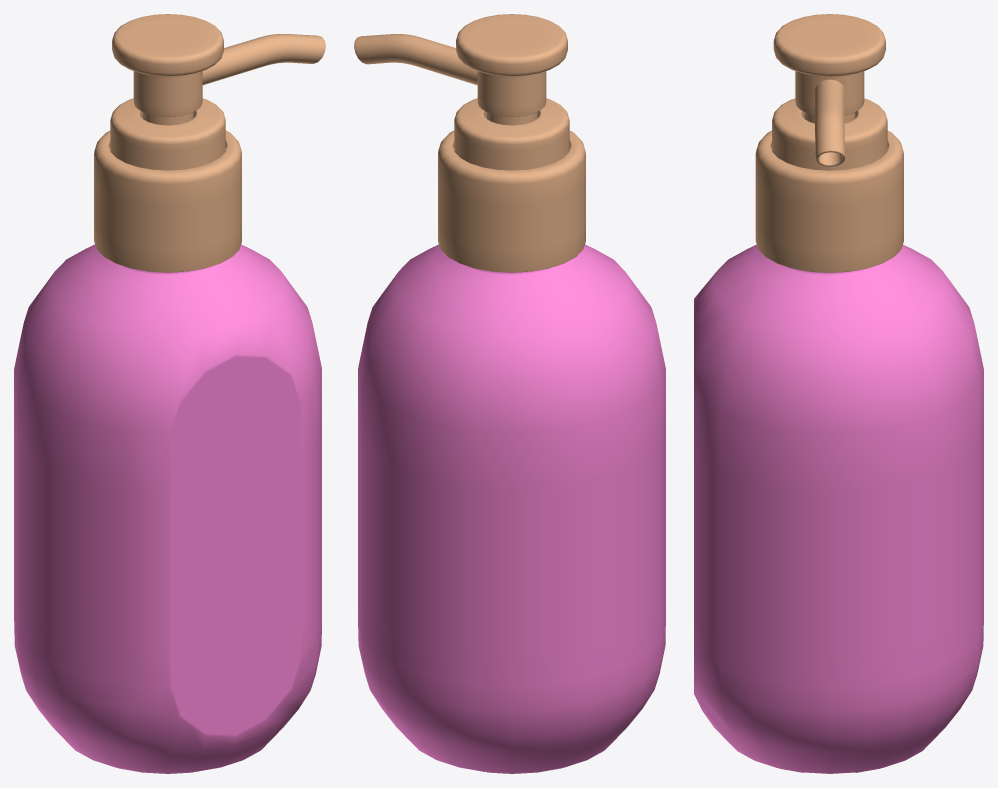
File: soap.gltf
The picture shows the model from 3 angles, left to right: view 1: azimuth 30°, elevation 25°; view 2: azimuth 150°, elevation 25°; view 3: azimuth 270°, elevation 25°; orthographic projection.
Parts seen in each view (by area): view 1: bottle (2), cap; view 2: bottle (2), cap; view 3: bottle (2), cap.
Part boxes in pixels (<box>): bottle (2): <box>14,244,321,773</box>; cap: <box>94,14,325,272</box>; bottle (2): <box>358,244,665,773</box>; cap: <box>354,14,585,272</box>; bottle (2): <box>694,244,983,773</box>; cap: <box>755,14,903,272</box>.
Bounding box in the file's own units: 0.3066 × 0.7087 × 0.2671.
